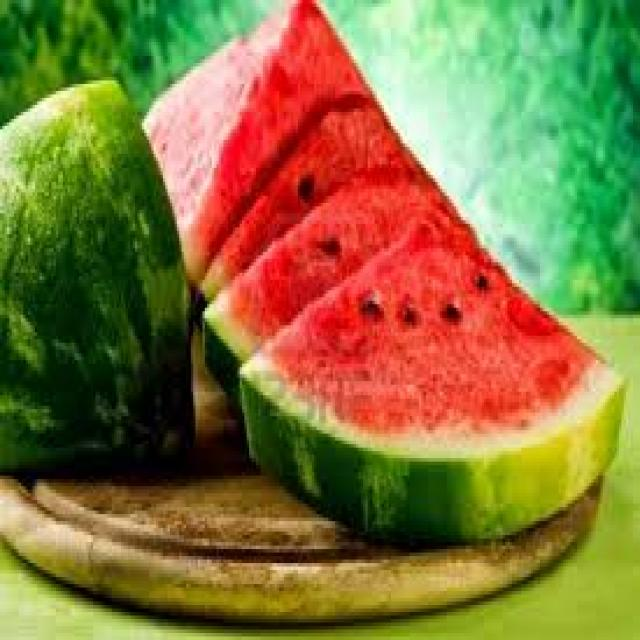watermelon: (235, 220, 628, 542), (0, 77, 195, 475), (200, 161, 480, 420)
